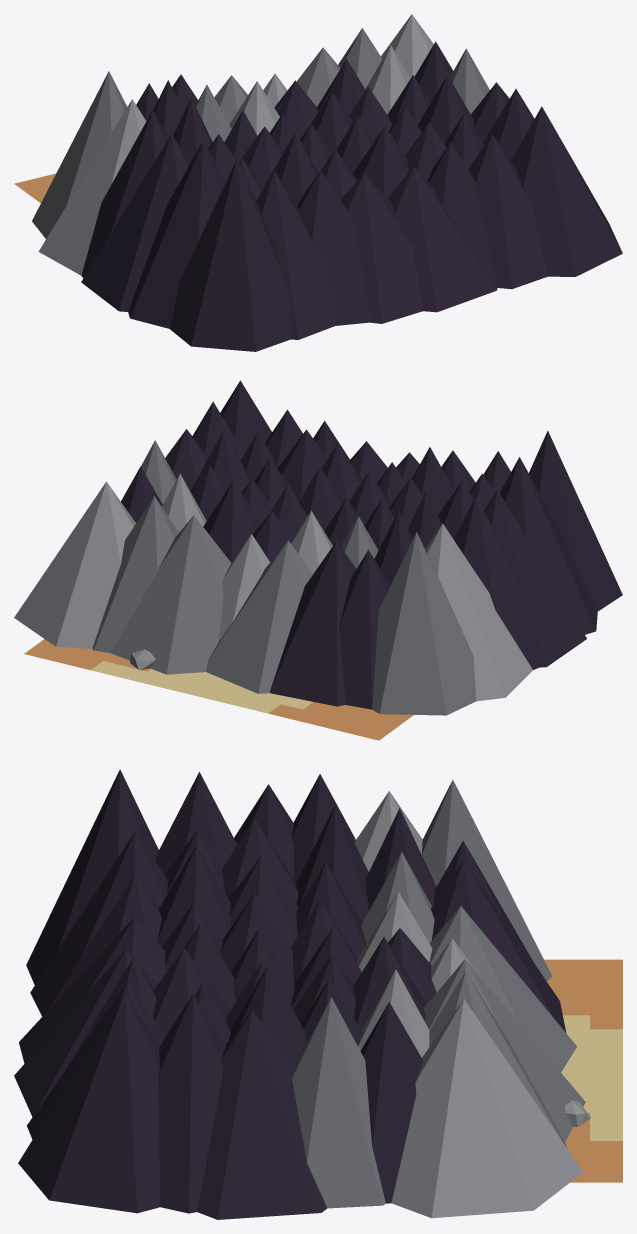
Rendered from chunk_10_23.glb.
The picture shows the model from 3 angles, top to bottom: view 1: azimuth 30°, elevation 25°; view 2: azimuth 150°, elevation 25°; view 3: azimuth 270°, elevation 25°; orthographic projection. The views are drawn at different scales.
Visible parts, largest first — view 1: chunk_10_23; view 2: chunk_10_23; view 3: chunk_10_23.
Boxes of the visible parts, left/top/right/bottom form: chunk_10_23: left=14, top=14, right=622, bottom=351; chunk_10_23: left=14, top=380, right=622, bottom=740; chunk_10_23: left=14, top=769, right=622, bottom=1219.
Size of the model in its own units: 21.01 by 7.26 by 18.45.
